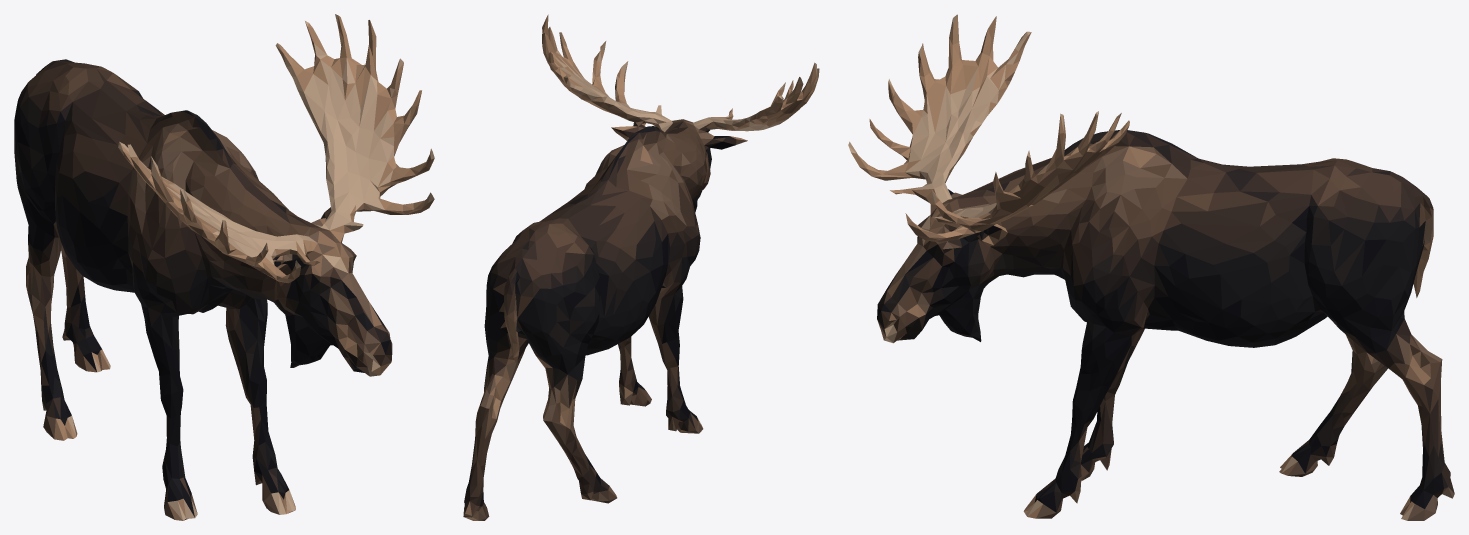
The model's file is alces_alces.glb.
The picture shows the model from 3 angles, left to right: view 1: azimuth 30°, elevation 25°; view 2: azimuth 150°, elevation 25°; view 3: azimuth 270°, elevation 25°; orthographic projection. The views are drawn at different scales.
Parts seen in each view (by area): view 1: lod0; view 2: lod0; view 3: lod0.
Boxes of the visible parts, x1,y1,x2,y2 form: lod0: (14,14,434,520); lod0: (463,14,819,520); lod0: (848,14,1454,520).
Size of what is drawn, in the model's own units: 1.17 by 1.73 by 2.13.
